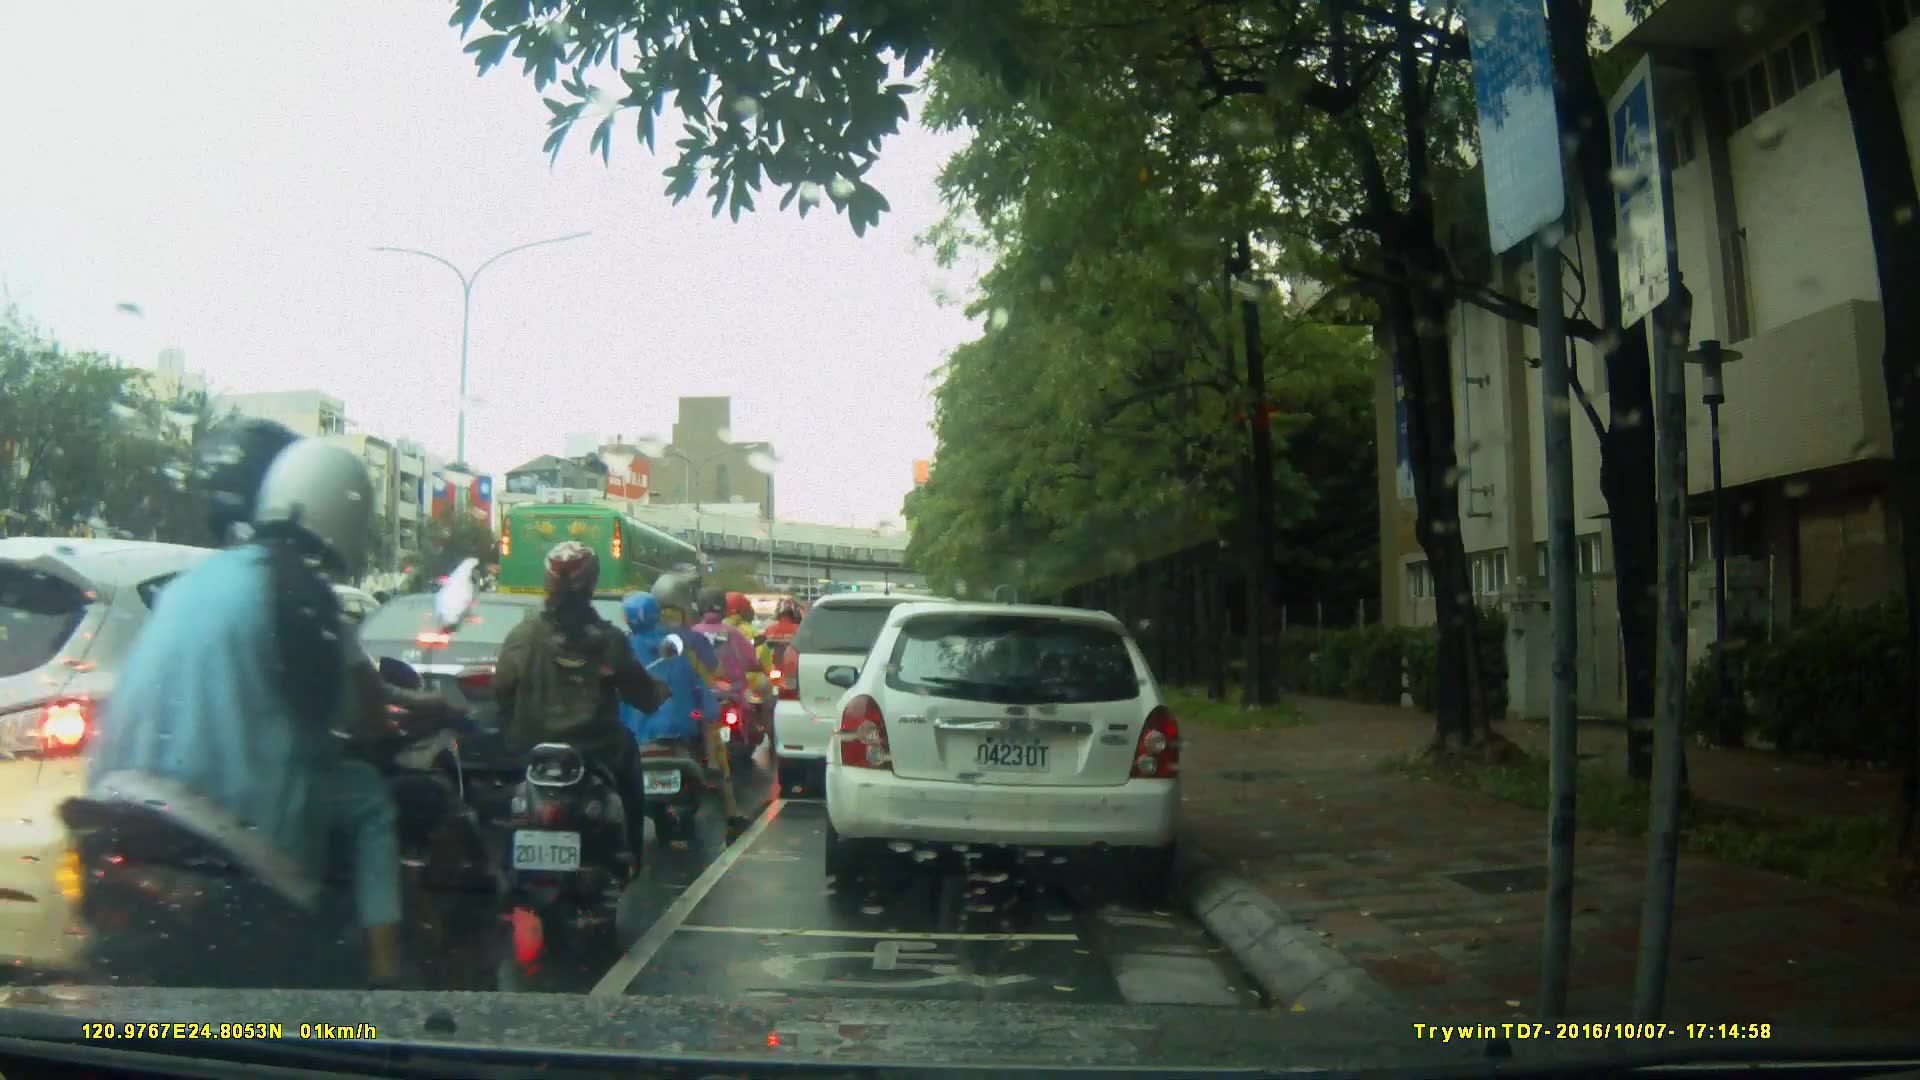rider: (46, 413, 502, 1047), (489, 536, 677, 938), (619, 579, 716, 828), (683, 591, 755, 776), (720, 594, 788, 765), (765, 596, 811, 733)
vehicle: (4, 535, 467, 988), (831, 592, 1196, 897), (312, 589, 629, 776), (771, 590, 999, 804), (501, 503, 709, 636)
